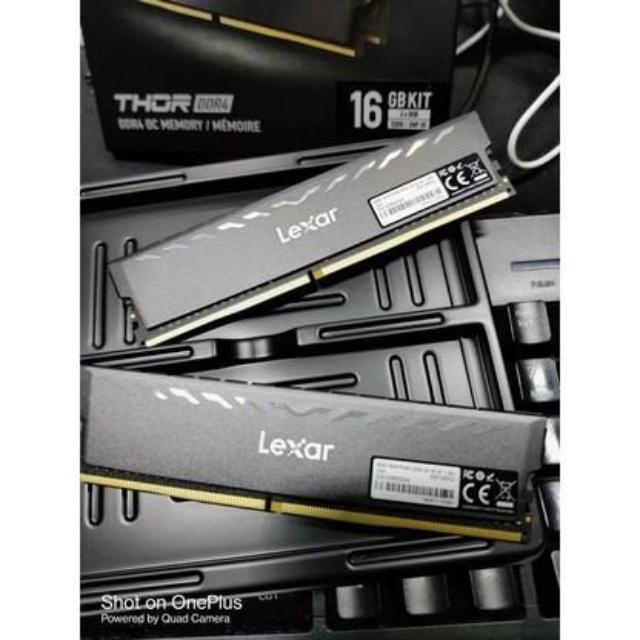RAM: (106, 104, 512, 350), (79, 357, 550, 551)
